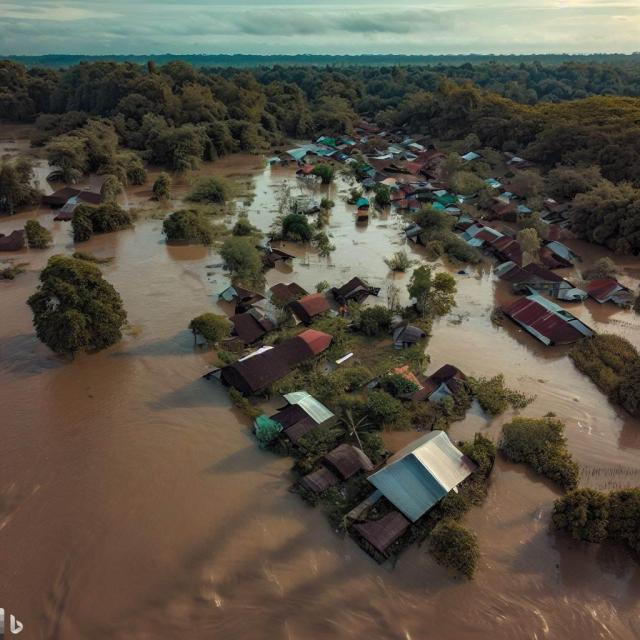flood: (0, 154, 640, 640), (428, 258, 640, 491), (0, 122, 59, 192), (562, 300, 640, 348), (567, 240, 640, 289), (451, 404, 513, 442), (383, 430, 427, 452)
house: (332, 430, 480, 550), (220, 336, 312, 403), (494, 291, 599, 348), (296, 441, 377, 497), (256, 388, 338, 443), (411, 364, 471, 410), (278, 284, 336, 318), (231, 301, 278, 340), (328, 274, 378, 308), (584, 277, 634, 308), (394, 320, 423, 351)
